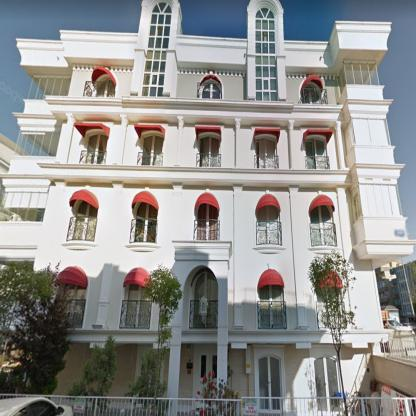door: (309, 344, 340, 415), (254, 346, 286, 412), (192, 342, 217, 408)
window: (141, 3, 171, 96), (255, 6, 277, 101), (350, 182, 402, 222), (343, 117, 390, 156), (0, 187, 48, 222), (336, 62, 380, 99), (190, 272, 217, 328), (13, 127, 61, 157), (120, 284, 151, 328), (28, 74, 71, 99), (71, 200, 97, 240), (64, 284, 86, 328), (133, 202, 157, 242), (310, 206, 334, 246), (258, 205, 280, 244), (196, 205, 217, 239), (86, 132, 108, 164), (140, 134, 162, 166), (305, 137, 326, 168), (199, 136, 220, 166), (256, 136, 276, 167), (93, 76, 115, 99), (201, 80, 221, 99), (303, 82, 320, 103)
